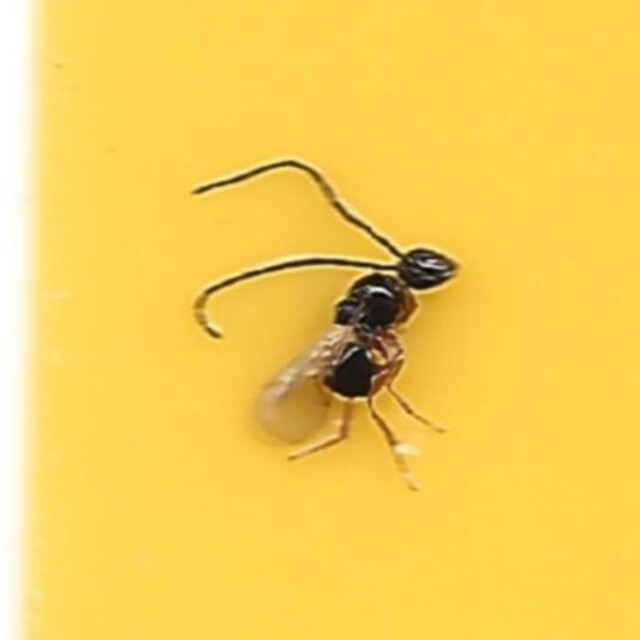Hymenoptera: (181, 155, 459, 485)
